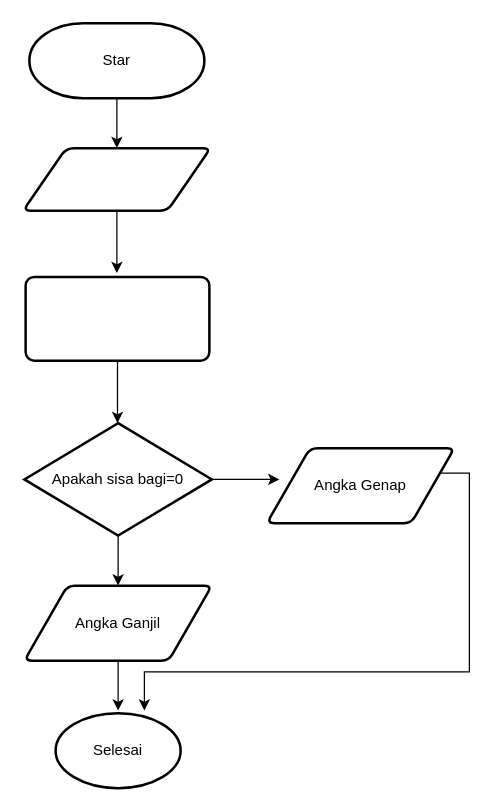
Image size: 501x810. Some labels were removed from this diagram. The centre of each missing label's shape, as x and y in pixels:
"Bagi bilangan dengan 2 menggunakan modulus" goes at [117,318].
"masukan angka" goes at [116,178].
